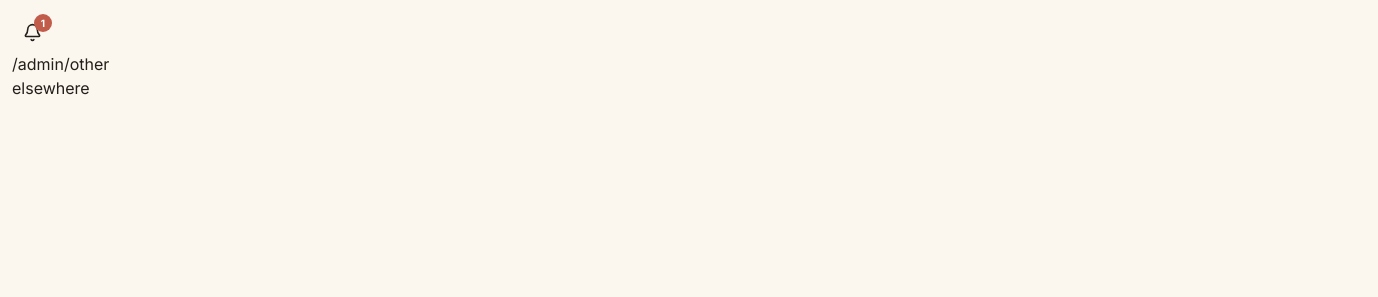
Test case: Bell — recent dropdown › opening a notification navigates to its record but does NOT mark it read
Check: the text "1" is shown, box [34,14,52,32]
Click the button named "Notifications" at point(32, 32), box [12,12,52,52]
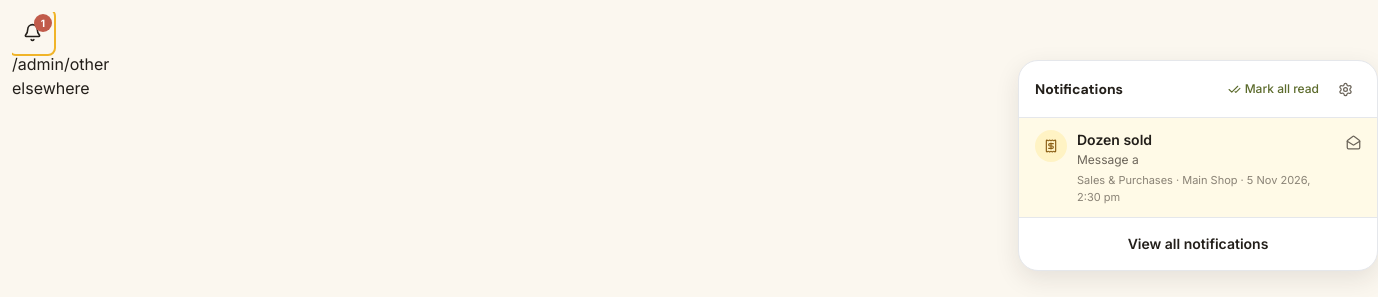
Click the button with aria-label "Open History: Dozen sold" at point(1051, 146), box [1019,118,1333,217]
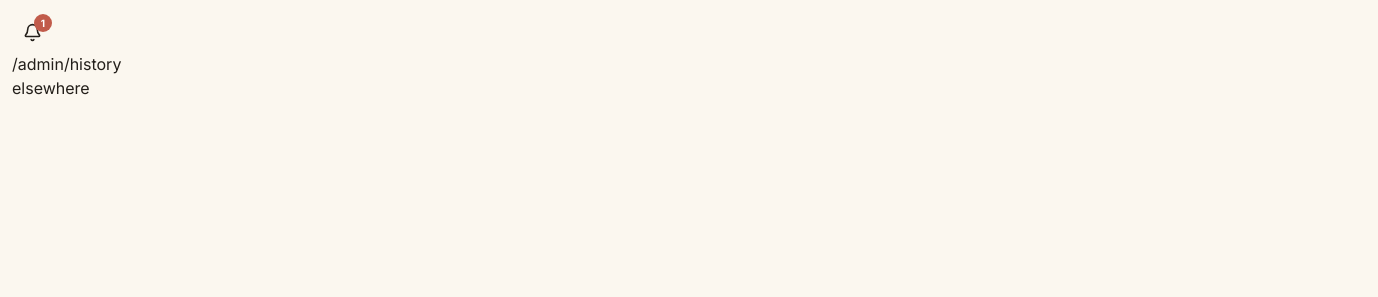
Check: the text with test id "unread-badge" reads "1", box [41,17,45,29]
Check: the text with test id "where" reads "/admin/history", box [12,54,121,74]
